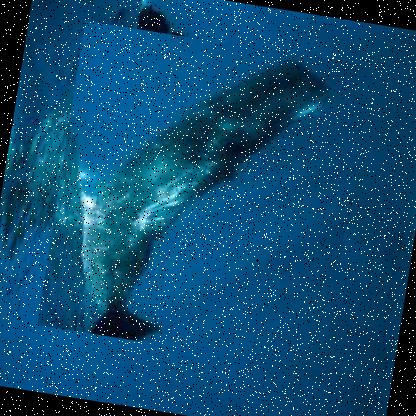sperm_whale: (35, 20, 370, 371)
